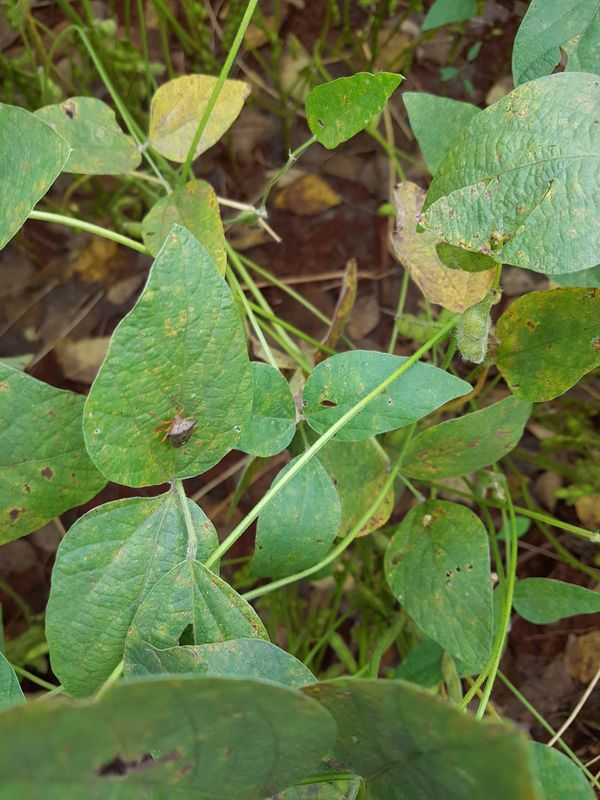Euschistus_heros_adulto: (143, 395, 208, 458)
